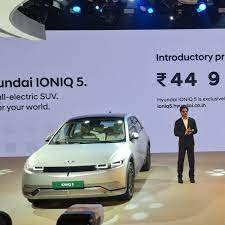Honda Ioniq: (18, 114, 154, 206)
